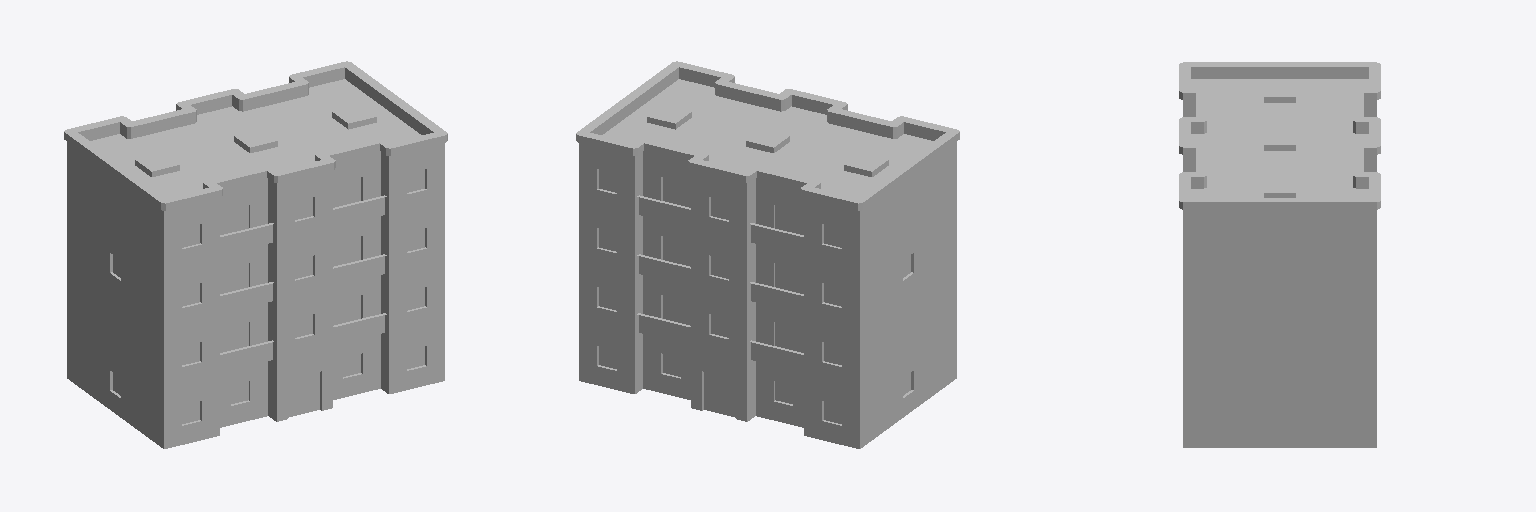
The model's file is building.obj.
3 renders of one model, left to right at view 1: azimuth 30°, elevation 25°; view 2: azimuth 150°, elevation 25°; view 3: azimuth 270°, elevation 25°, orthographic.
Visible parts, largest first — view 1: large_buildingA; view 2: large_buildingA; view 3: large_buildingA.
Part boxes in pixels (x1,y1,x2,y2): large_buildingA: (64,61,447,448); large_buildingA: (576,61,959,448); large_buildingA: (1179,62,1380,447).
Size of the model in its own units: 2.04 by 1.68 by 1.24.